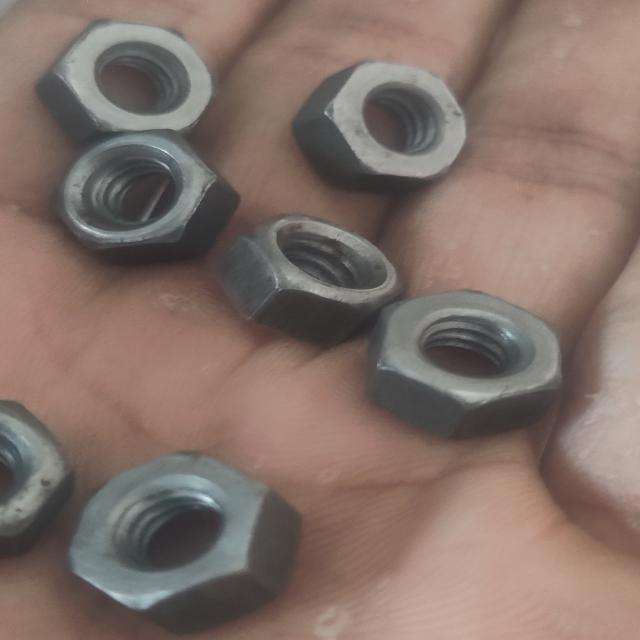disinfected nut: (70, 452, 300, 632), (367, 290, 560, 440), (213, 215, 403, 345), (60, 130, 240, 262), (293, 60, 467, 190), (37, 20, 213, 145), (0, 400, 73, 558)
